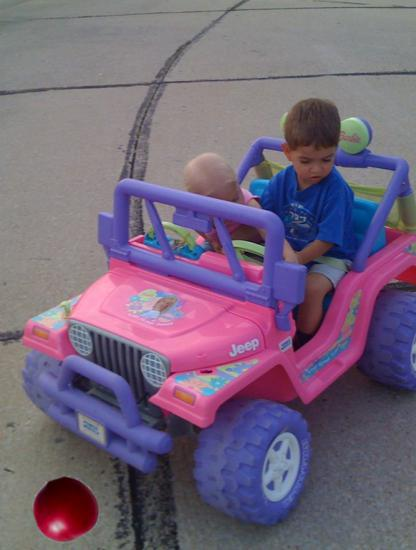Cherry: (33, 476, 100, 543)
